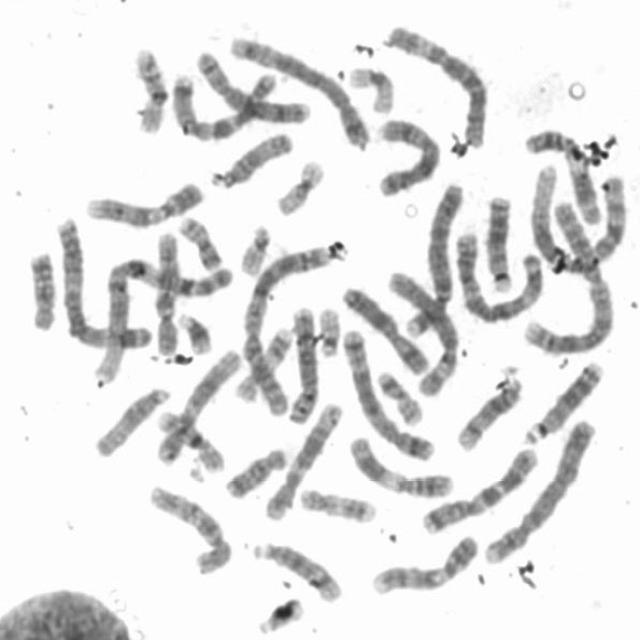A1: (86, 247, 231, 386), (524, 161, 630, 275)
A2: (234, 236, 338, 419), (516, 179, 618, 357)
A3: (49, 210, 153, 352), (449, 225, 548, 325)
B4: (479, 412, 599, 567), (401, 176, 468, 341)
B5: (222, 28, 374, 150), (338, 321, 438, 463)
C10: (143, 479, 236, 576), (150, 227, 182, 356)
C11: (518, 120, 602, 228), (343, 429, 458, 500)
C12: (150, 342, 243, 467), (260, 395, 346, 522)
C6: (379, 17, 492, 151), (383, 265, 464, 400)
C7: (418, 440, 544, 536), (166, 64, 280, 142)
C8: (190, 44, 316, 125), (284, 300, 322, 426)
C9: (367, 528, 484, 598), (80, 174, 208, 230)
D13: (520, 354, 608, 445), (481, 189, 515, 293)
D14: (246, 535, 343, 604), (452, 370, 526, 453)
D15: (88, 379, 174, 460), (205, 126, 296, 190)
E16: (153, 404, 226, 474), (127, 40, 171, 136)
E17: (231, 320, 297, 403), (294, 481, 379, 526)
E18: (220, 441, 292, 501), (23, 244, 59, 332)
F19: (271, 153, 328, 217), (343, 61, 396, 116)
F20: (372, 365, 426, 427), (173, 209, 225, 272)
G21: (250, 590, 306, 636), (172, 304, 215, 356)
G22: (234, 217, 274, 278), (312, 300, 342, 359)
X: (336, 276, 434, 376), (370, 112, 442, 198)
